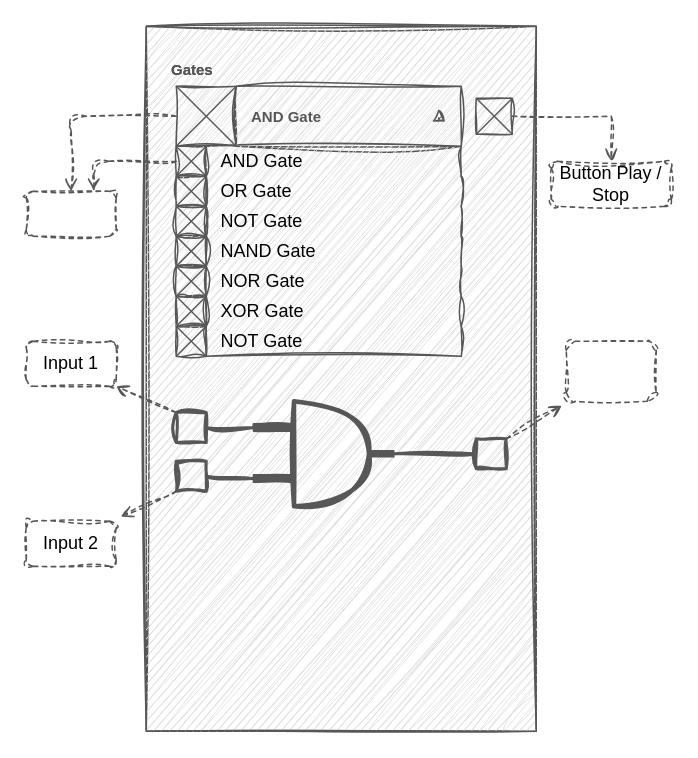
Some shapes in this 698 by 758 pixel diagram are drawn without their labels. The centre of each missing label's shape, as x and y in pixels:
Gate icon: point 70,213
Output (Lamp): point 610,370
